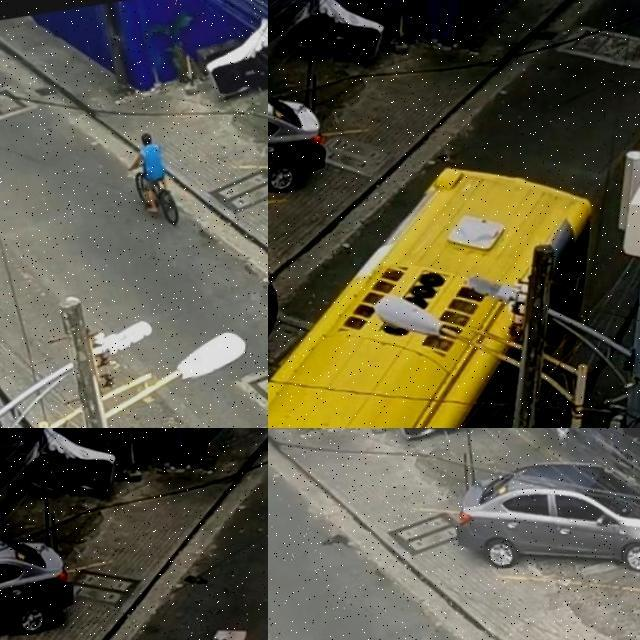Others: (268, 144, 569, 428)
